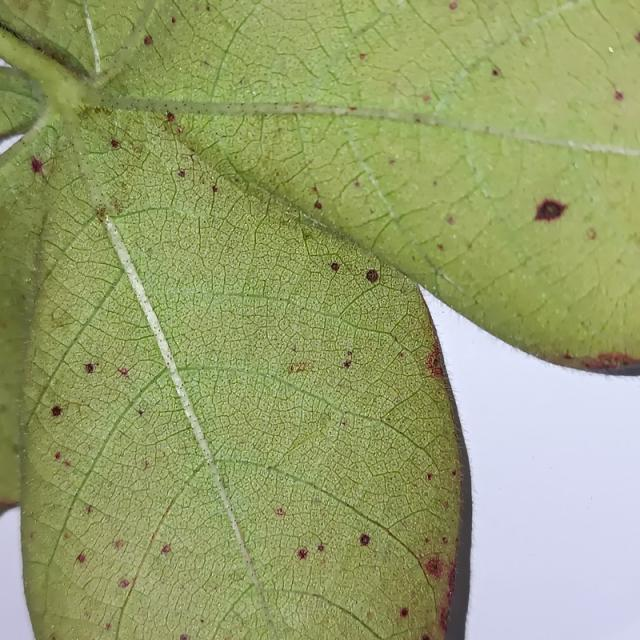Bacterial_Blight: (522, 187, 570, 233)
Cotton: (0, 0, 639, 639)
